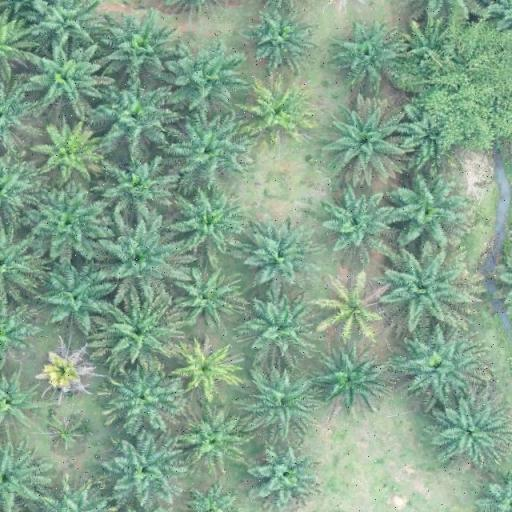Ganoderma: (329, 288, 382, 333), (254, 88, 306, 132), (185, 347, 230, 388), (44, 354, 90, 394)
